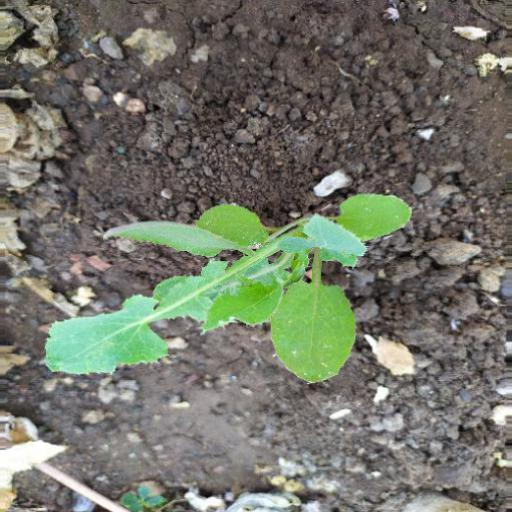weed: (43, 181, 416, 399)
